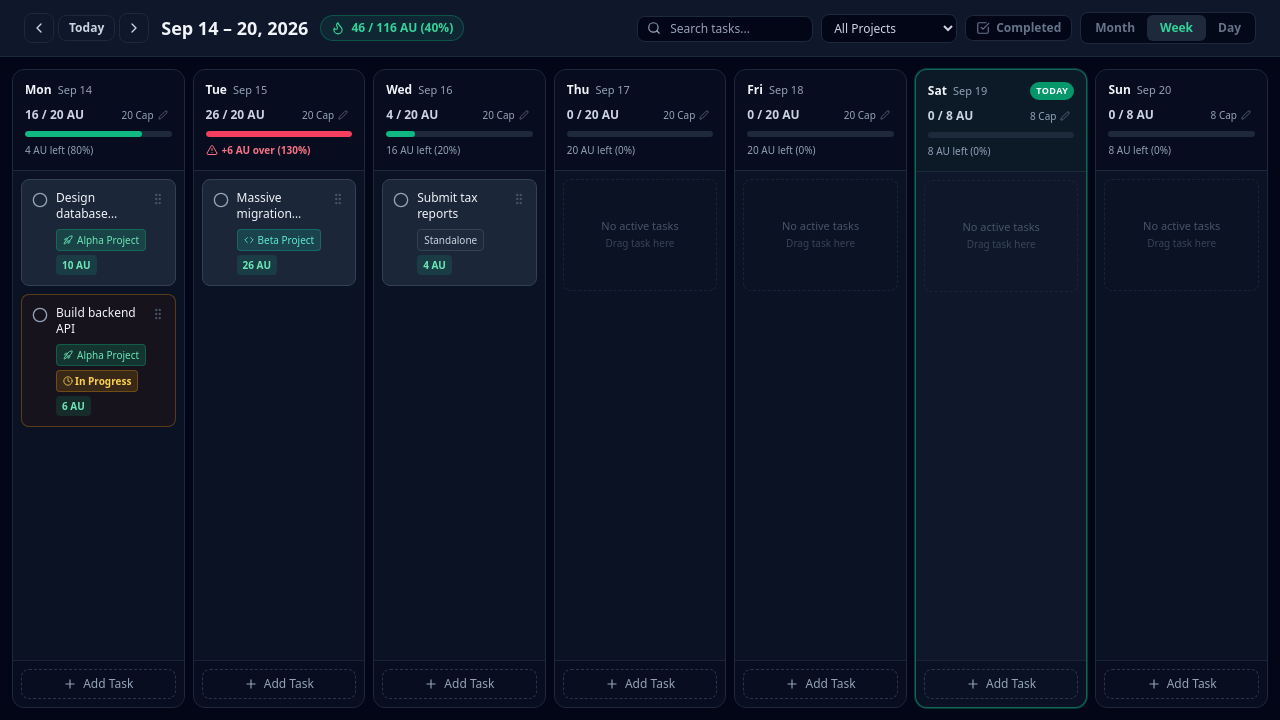
TaskCalendarView - Dedicated Full Task Calendar › filters tasks by search text
Type "database" into the field with placeholder "Search tasks...".
click(725, 28); type("database")  # box [637,16,813,42]
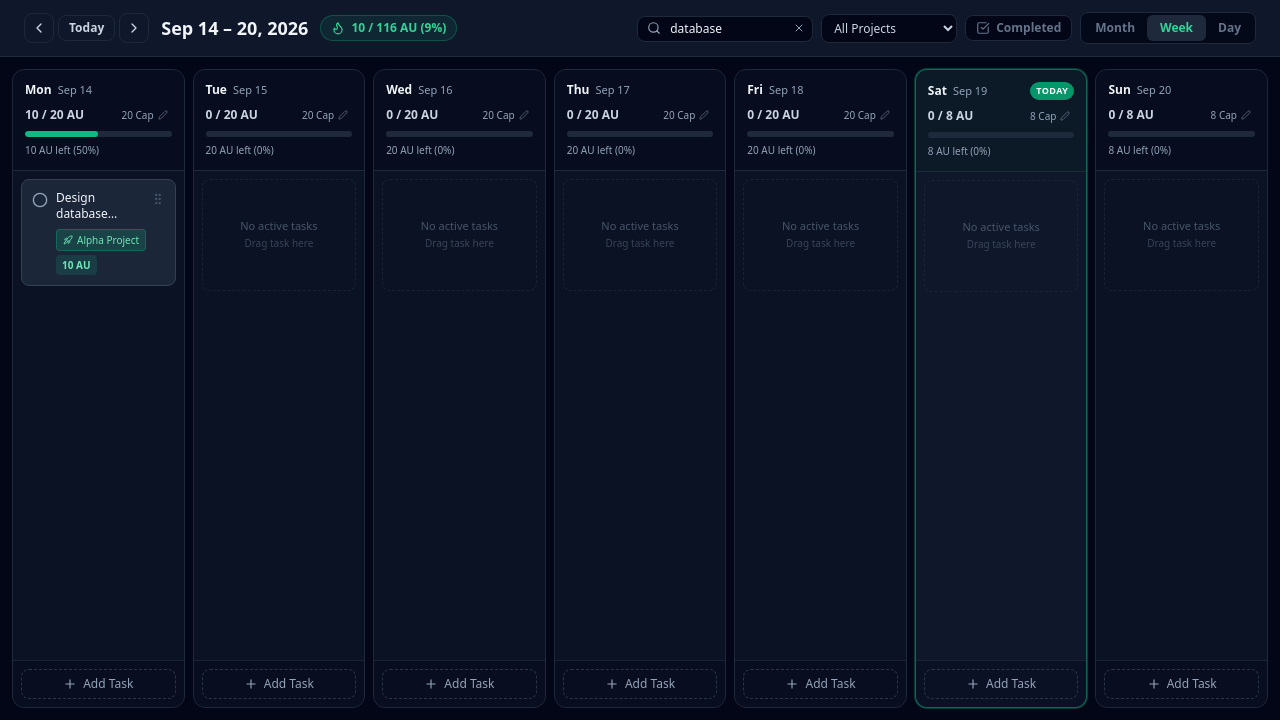
Expected: the text "Design database schema" is shown, [56,188,108,238]
Now the text "Submit tax reports" is gone
Now the text "Build backend API" is gone
